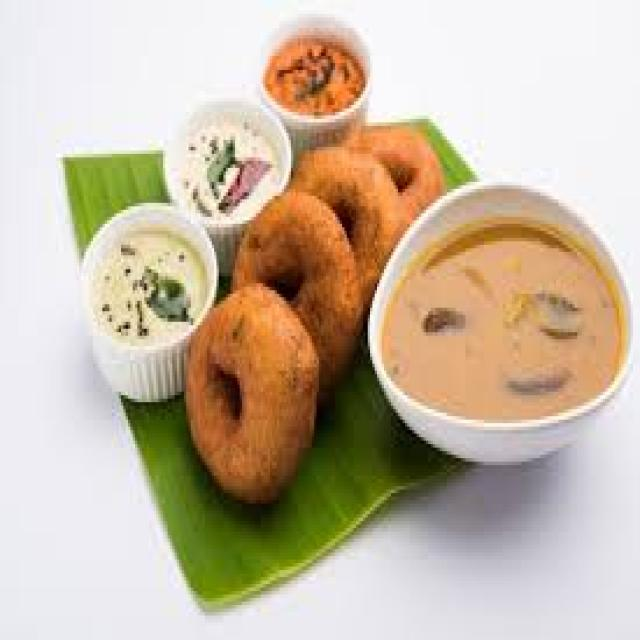MEDU VADA: (187, 284, 321, 506), (234, 195, 358, 381), (297, 139, 400, 292), (355, 128, 441, 214)
